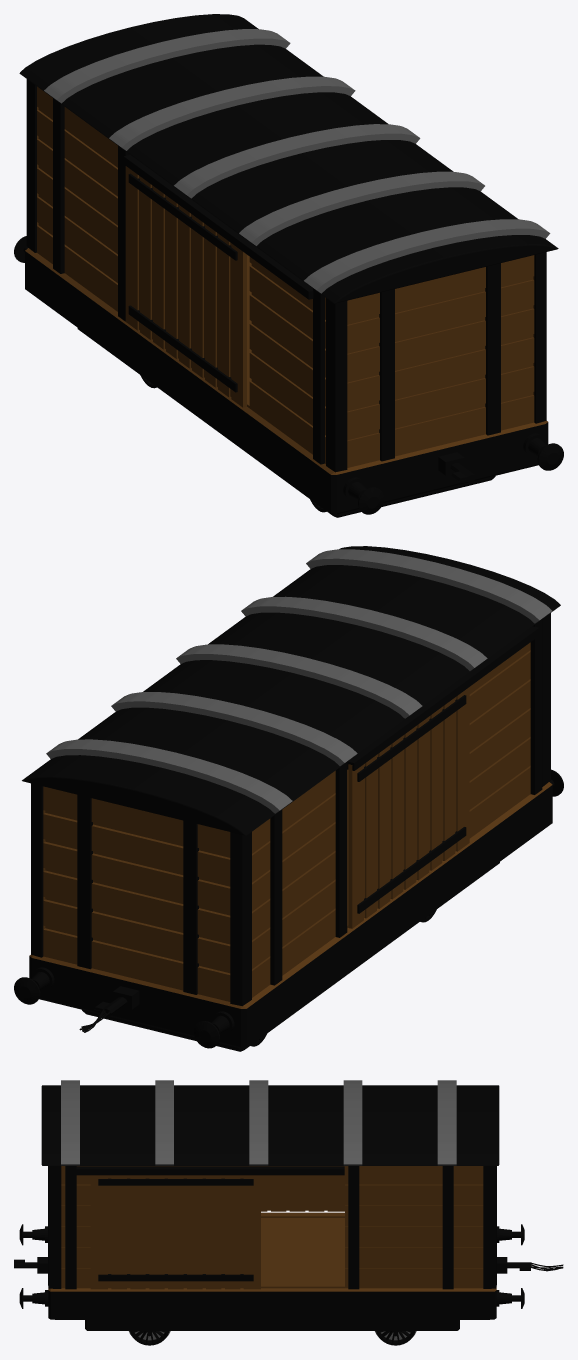
Rendered from Train_Wagon_Var_02.fbx.
3 renders of one model, top to bottom at view 1: azimuth 30°, elevation 25°; view 2: azimuth 150°, elevation 25°; view 3: azimuth 270°, elevation 25°, orthographic. The views are drawn at different scales.
Visible parts, largest first — view 1: Train_Wagon_Var_02_Merged; view 2: Train_Wagon_Var_02_Merged; view 3: Train_Wagon_Var_02_Merged.
Part boxes in pixels (bbox=[...]): Train_Wagon_Var_02_Merged: bbox=[14, 14, 563, 517]; Train_Wagon_Var_02_Merged: bbox=[14, 546, 563, 1051]; Train_Wagon_Var_02_Merged: bbox=[14, 1080, 563, 1345].
Bounding box in the file's own units: 299 × 370 × 840.
